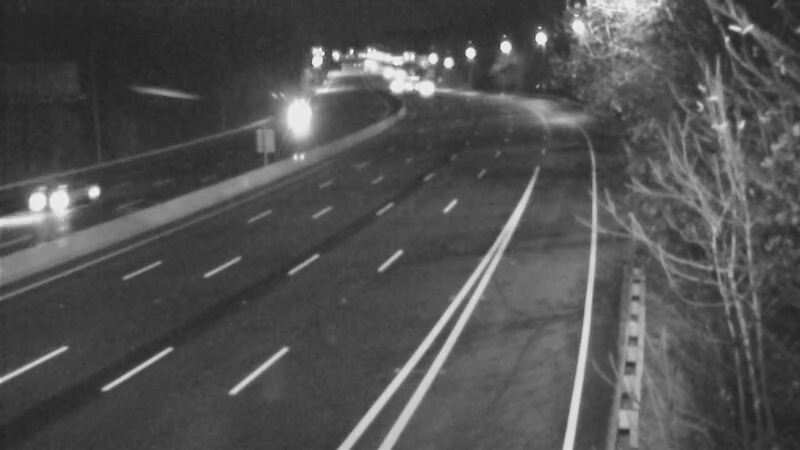vehicle: (7, 153, 87, 233), (371, 61, 421, 111), (395, 62, 445, 112), (275, 89, 325, 139)
